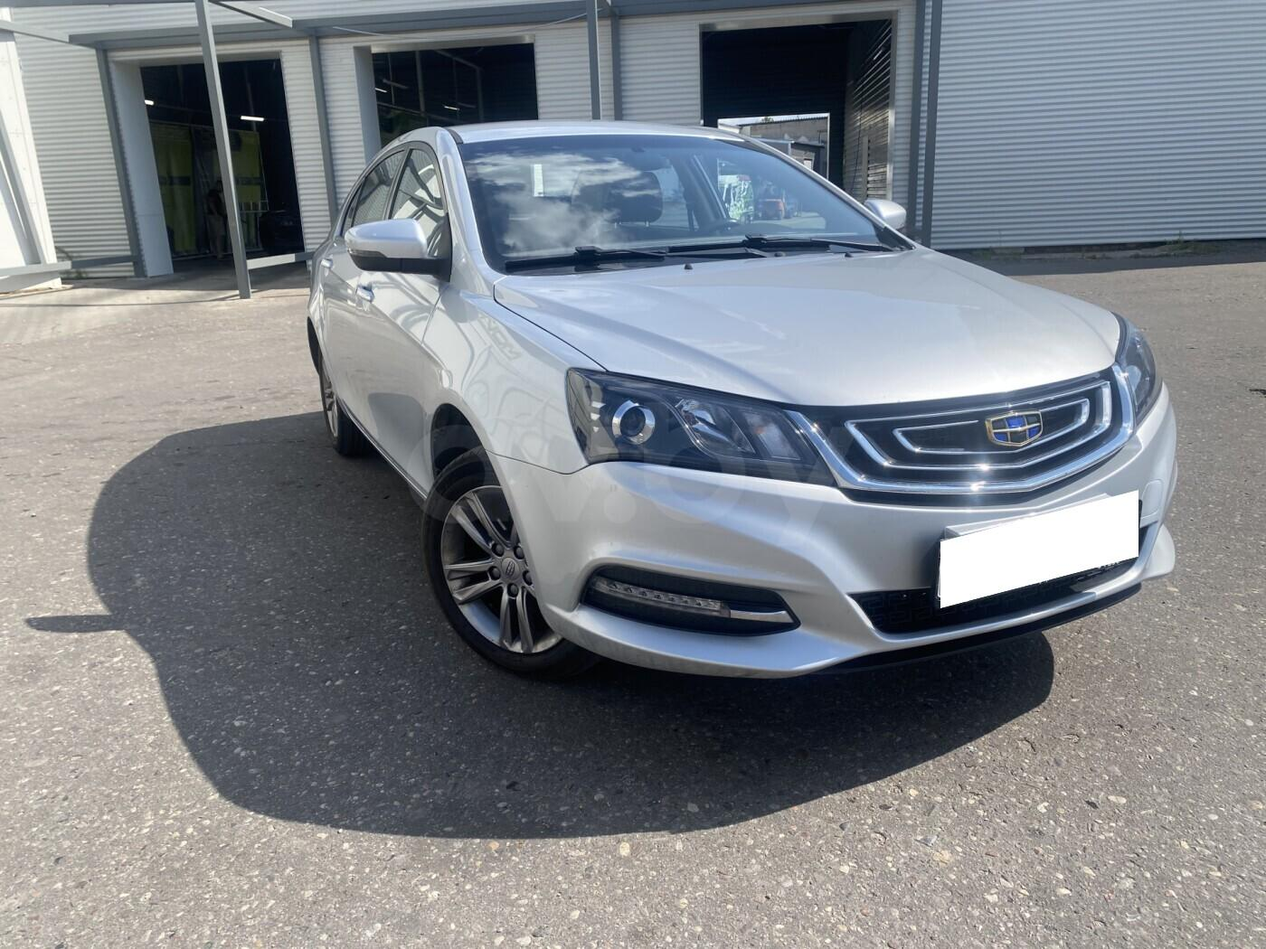Emgrand_2019-2021: (305, 121, 1176, 678)
